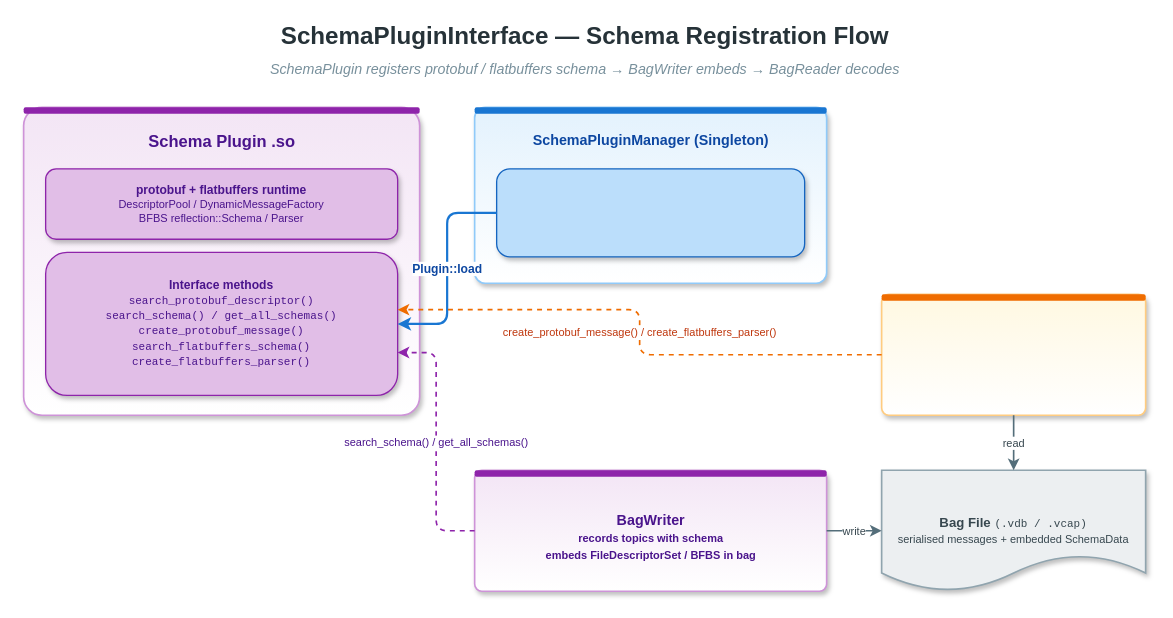
This 1173x618 diagram has some shape labels left out. The centre of each missing label's shape, as x and y in pixels:
"BagReader reads schema from bag uses protobuf msg or flatbuffers parser" belongs at pixel 1014 356.
"get(schema_plugin_path) loads .so on first call reads VLINK_SCHEMA_PLUGIN env" belongs at pixel 651 214.
